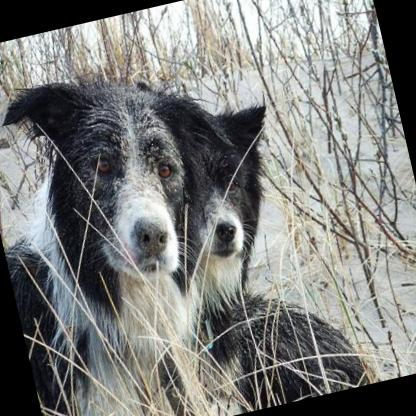Border_collie: (0, 41, 292, 416), (150, 92, 369, 414)
